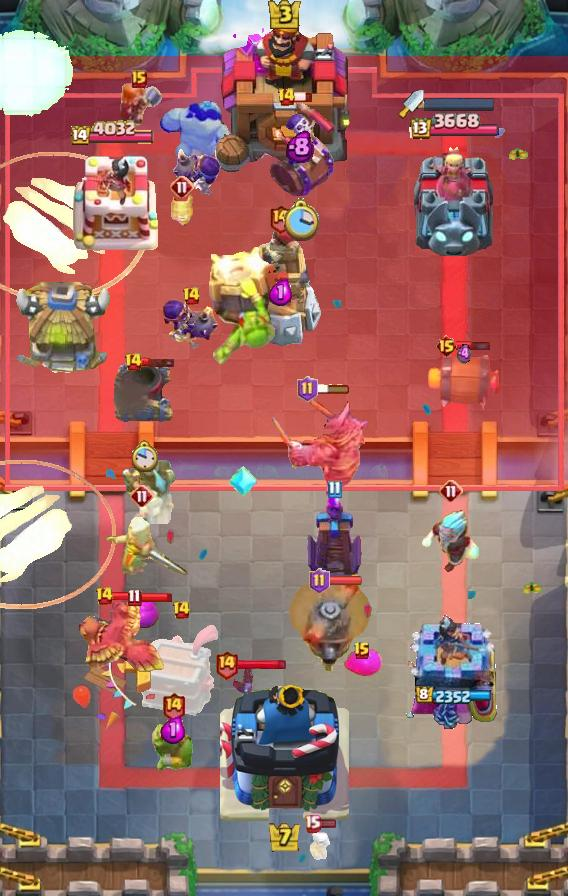bar: (409, 142, 497, 256)
barbarian-barrel: (229, 666, 255, 696)
dark-prince: (284, 583, 378, 671)
dart-goblin: (140, 624, 222, 718)
electro-spirit: (286, 129, 314, 162), (161, 716, 185, 744), (269, 279, 292, 306), (457, 343, 471, 365)
elixir: (281, 198, 319, 243), (130, 440, 158, 474)
emote: (237, 657, 288, 670), (456, 340, 492, 353), (140, 356, 176, 368), (315, 383, 351, 395), (327, 574, 363, 585), (139, 593, 173, 604), (111, 591, 143, 601), (293, 91, 313, 103), (319, 819, 338, 830)
flying-machine: (152, 723, 194, 773)
goblin-ball: (161, 297, 221, 353), (170, 149, 222, 205)
golemite: (269, 394, 369, 502)
heal-spirit: (307, 829, 335, 861)
hog-rider: (115, 83, 163, 133)
ice-spirit-evolution: (168, 191, 196, 227)
ice-spirit-evolution-symbol: (304, 491, 364, 583)
ice-wizard: (0, 151, 148, 301), (0, 459, 116, 609)
inferno-dragon: (120, 448, 178, 524)
king-tower: (211, 7, 357, 181), (219, 678, 349, 826)
king-tower-bar: (424, 97, 496, 111)
mega-knight: (0, 27, 75, 120)
miner: (342, 649, 382, 677), (128, 598, 160, 628)
mortar: (420, 508, 482, 574)
mother-witch: (72, 601, 168, 677)
musketeer: (113, 358, 175, 426)
pad_2: (229, 464, 257, 498)
poison: (95, 507, 189, 579)
prince: (11, 282, 113, 378)
queen-tower: (406, 614, 503, 730), (68, 150, 160, 256)
rage: (157, 98, 239, 170)
selected: (407, 113, 499, 142), (71, 120, 157, 148), (416, 686, 493, 706)
skeleton-king-bar: (265, 100, 335, 200)
text: (268, 203, 293, 234), (213, 648, 238, 679), (162, 690, 186, 721), (170, 175, 194, 199), (439, 479, 463, 503), (130, 484, 154, 508), (434, 334, 457, 358), (297, 376, 318, 402), (309, 568, 330, 594), (276, 87, 296, 107), (182, 286, 201, 306), (124, 352, 143, 372), (95, 586, 114, 606), (173, 600, 192, 620), (353, 641, 371, 661), (304, 815, 321, 833), (131, 70, 147, 88), (126, 589, 141, 608), (327, 481, 341, 499)
the-log: (424, 350, 504, 410)
x-bow: (203, 244, 283, 370)
zappy: (238, 226, 323, 350)
